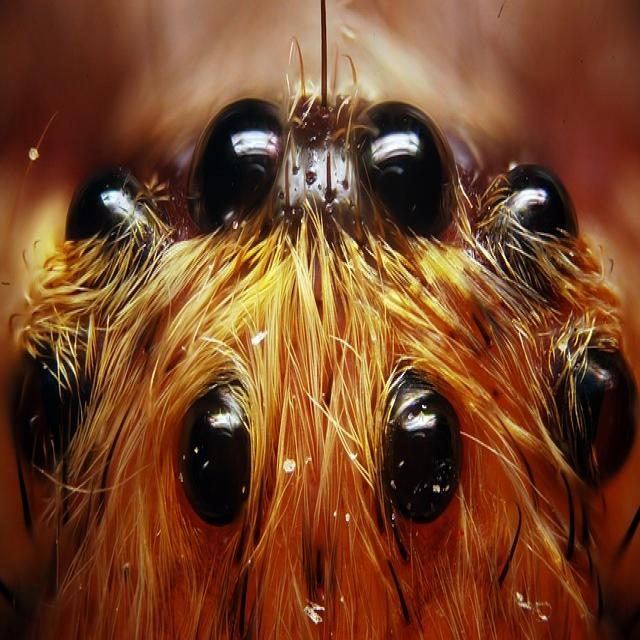spyder: (0, 45, 640, 640)
